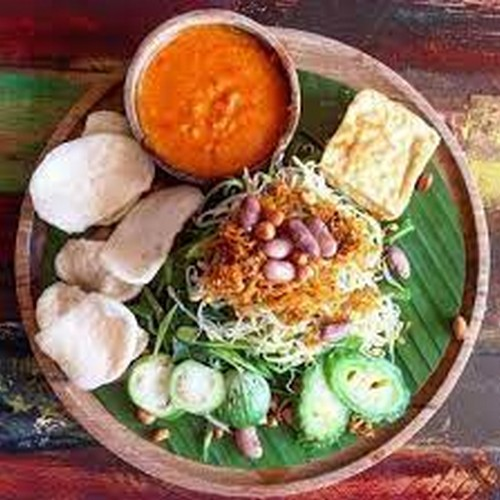serombotan: (75, 175, 440, 452)
